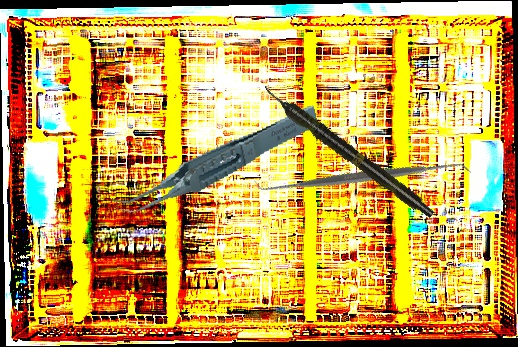Handpiece: (258, 80, 438, 223)
Spatula Surgical: (252, 66, 474, 288)
Tissue Forceps: (101, 104, 328, 216)
